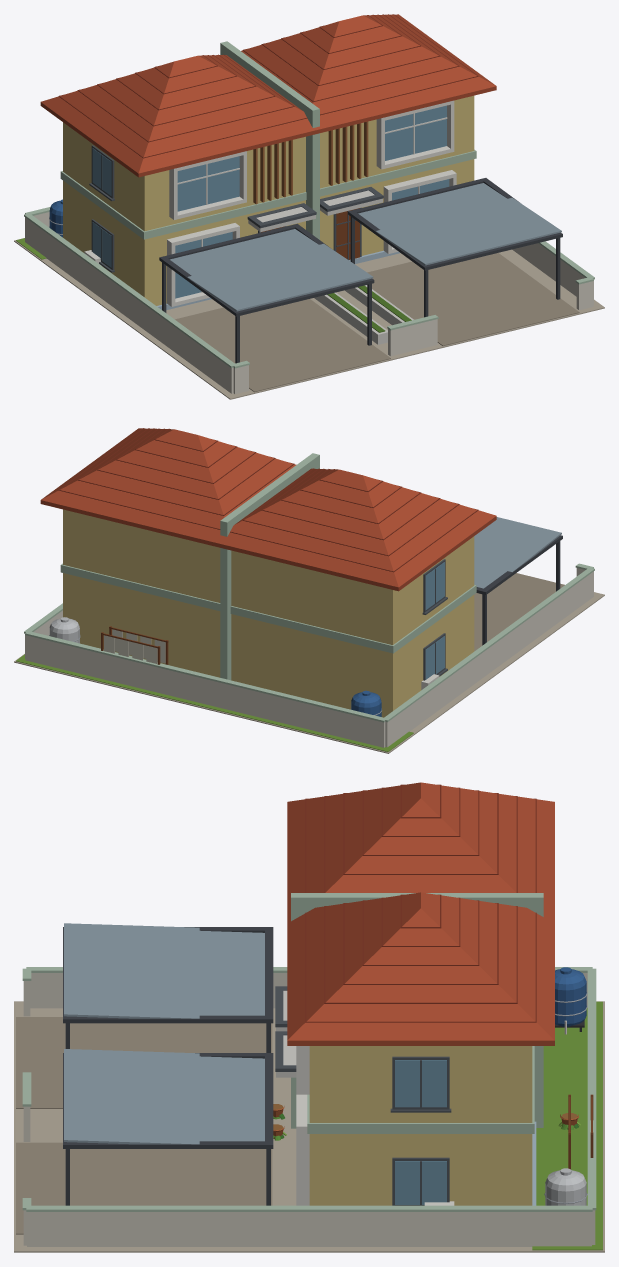
Rendered from home_2.glb.
3 renders of one model, top to bottom at view 1: azimuth 30°, elevation 25°; view 2: azimuth 150°, elevation 25°; view 3: azimuth 270°, elevation 25°, orthographic. The views are drawn at different scales.
Visible parts, largest first — view 1: body; view 2: body; view 3: body.
Boxes of the visible parts, x1,y1,x2,y2 form: body: [14, 14, 604, 399]; body: [14, 428, 604, 753]; body: [14, 782, 604, 1252].
Bounding box in the file's own units: 15.9 × 8.7 × 15.9.
